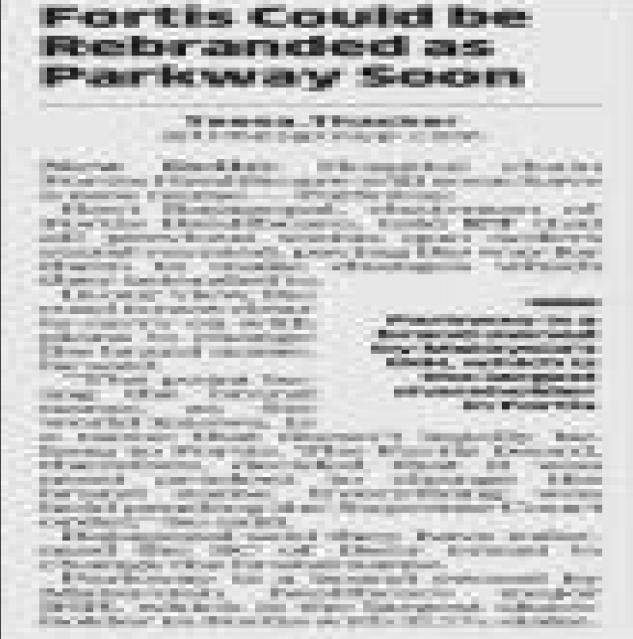paper: (1, 0, 633, 638)
